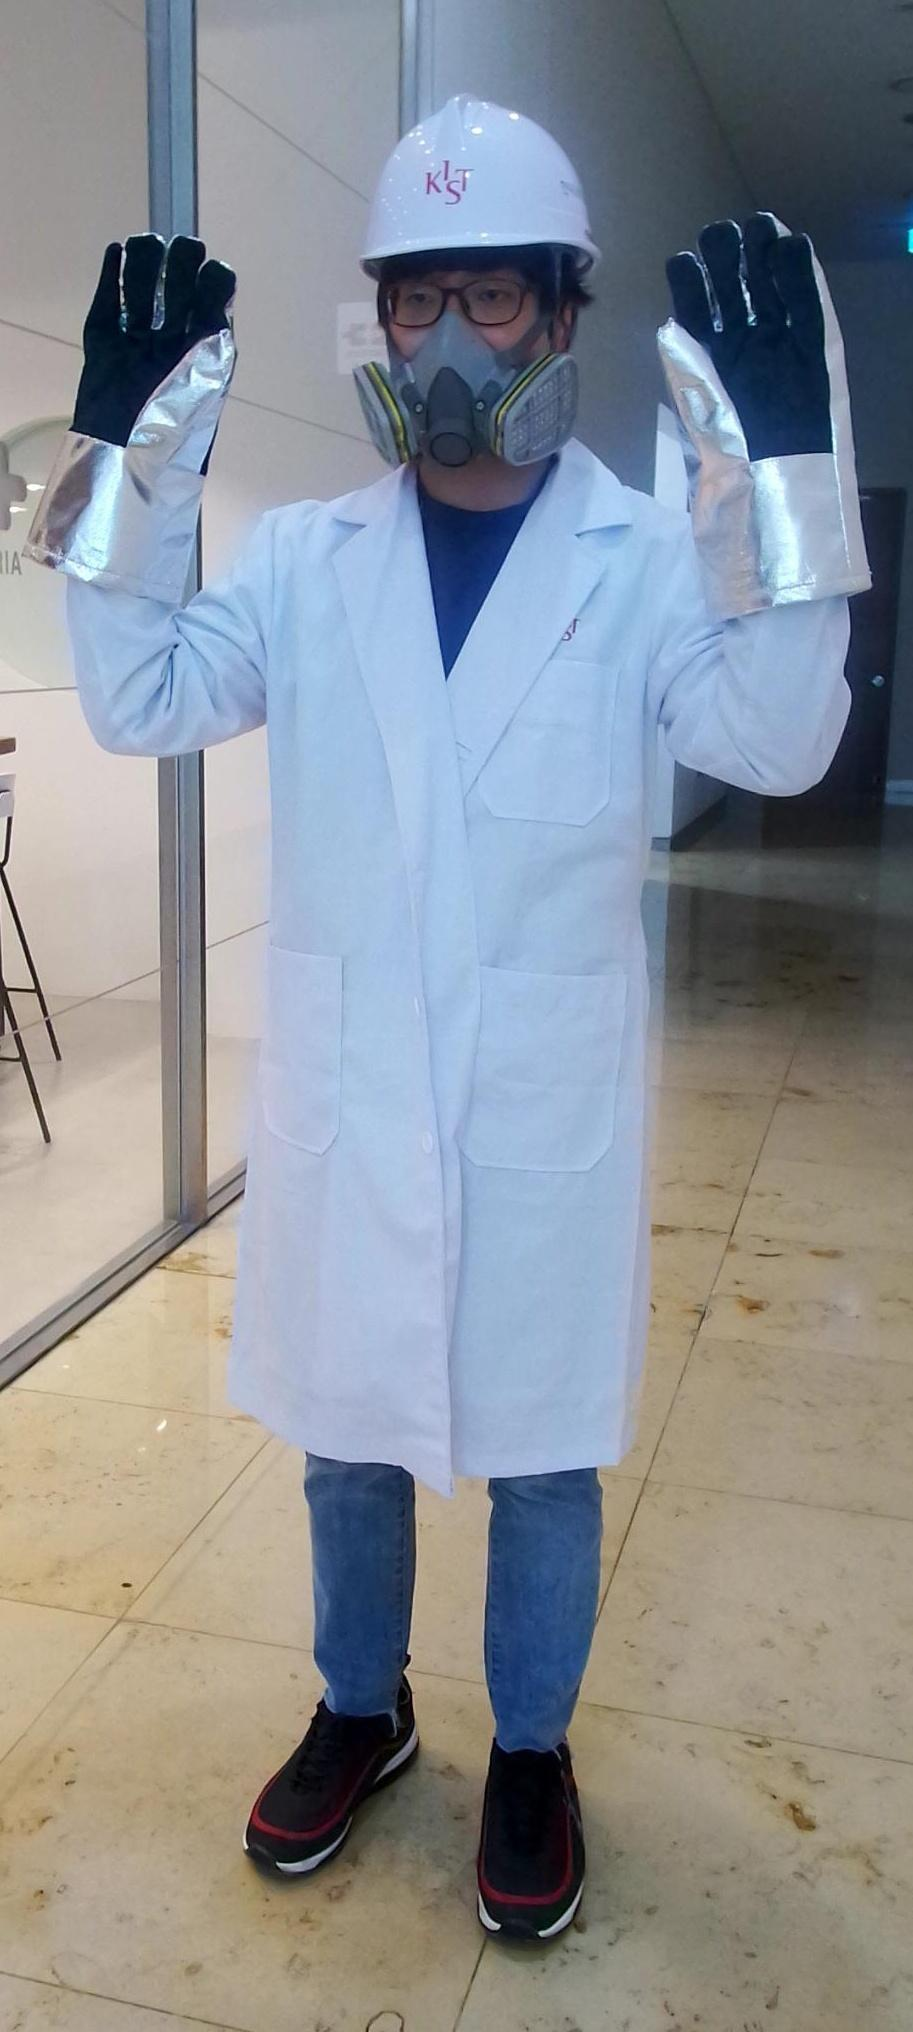lab_coat: (189, 502, 671, 1492)
